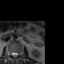CCS_normal: (13, 50, 15, 59)
LFS_normal: (17, 51, 20, 57)
LLS_normal: (15, 50, 17, 58)
RFS_normal: (9, 50, 11, 57)
RLS_normal: (11, 50, 13, 57)
